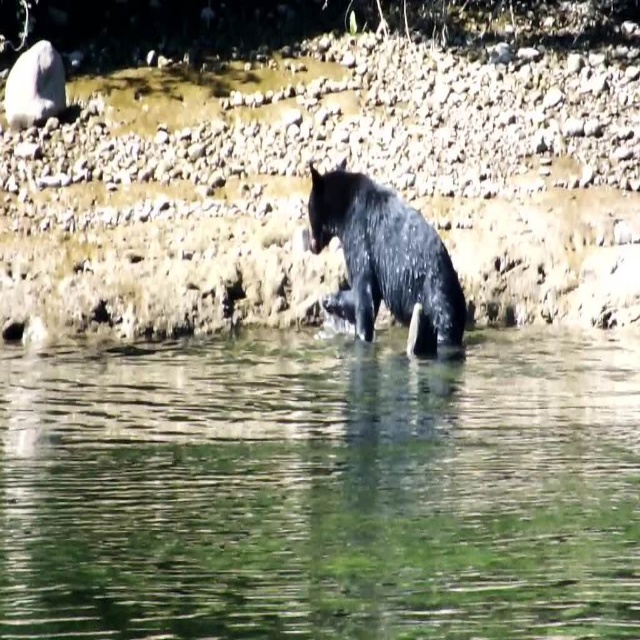Bear: (303, 158, 468, 363)
